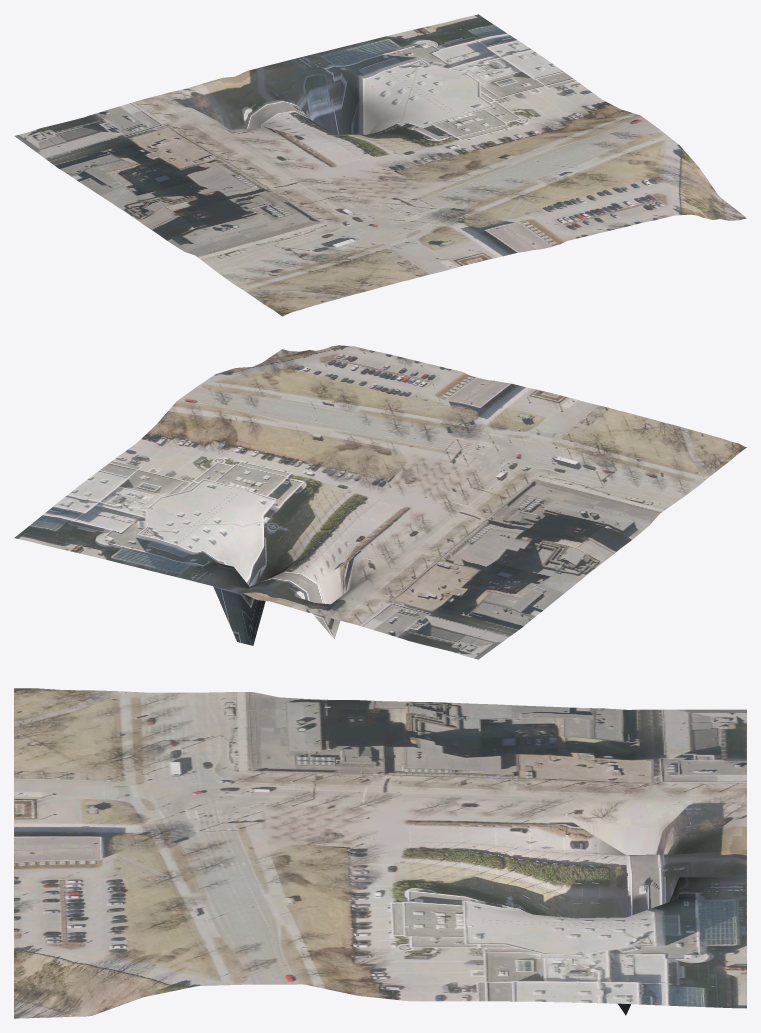
Rendered from CM_Terrain_24488206_6820613.fbx.
3 renders of one model, top to bottom at view 1: azimuth 30°, elevation 25°; view 2: azimuth 150°, elevation 25°; view 3: azimuth 270°, elevation 25°, orthographic. The views are drawn at different scales.
Visible parts, largest first — view 1: CM_Terrain_24488206_6820613_LOD0; view 2: CM_Terrain_24488206_6820613_LOD0; view 3: CM_Terrain_24488206_6820613_LOD0.
Part boxes in pixels (x1=…): CM_Terrain_24488206_6820613_LOD0: x1=14, y1=14, x2=746, y2=316; CM_Terrain_24488206_6820613_LOD0: x1=14, y1=345, x2=746, y2=659; CM_Terrain_24488206_6820613_LOD0: x1=14, y1=688, x2=746, y2=1018.
Size of what is drawn, in the model's own units: 205 by 46.46 by 205.
